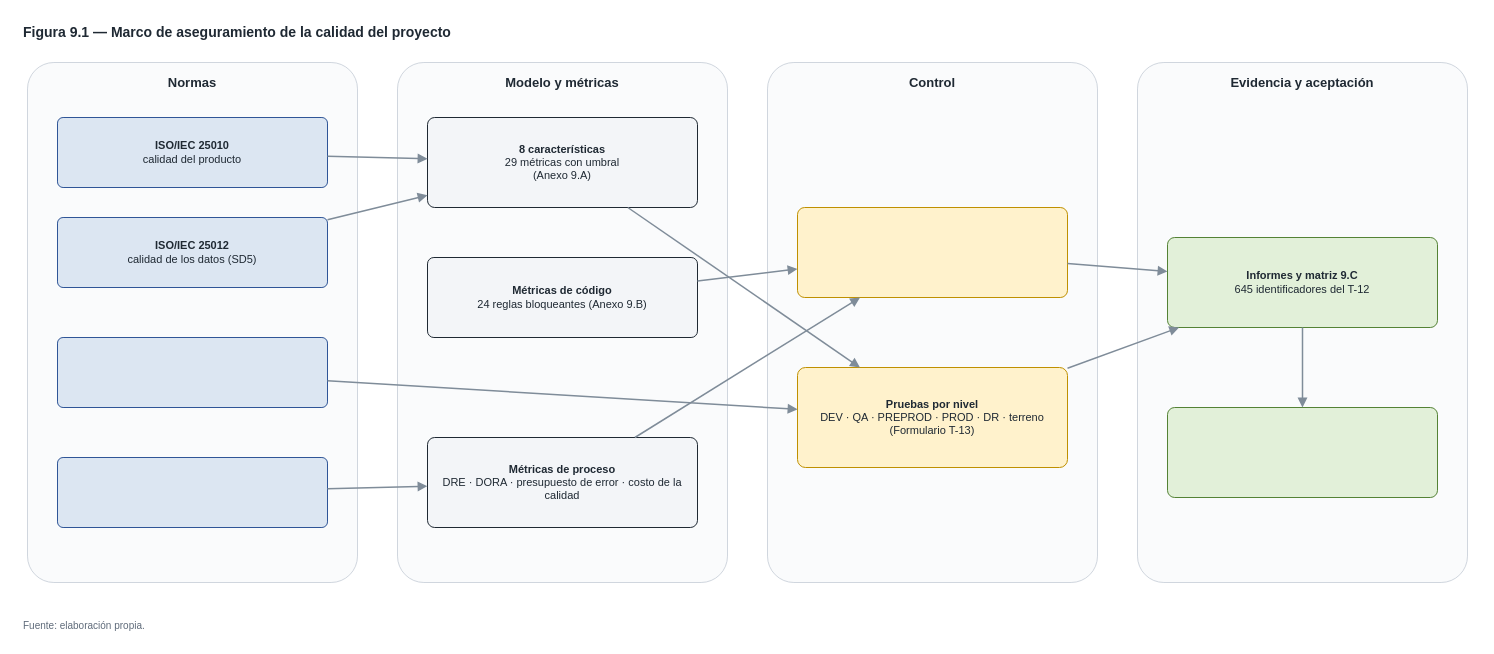
The diagram is 1494 pixels wide and 654 high, and some of its shapes have lost their labels. The shapes that lost their labels are listed below. From the top down, each one's centre as x and y in pixels, then its label:
(932,252): Puertas G0–G6 GitLab CI · AWS CodeBuild
(192,372): ISO/IEC/IEEE 29119 proceso y técnicas de prueba
(1302,452): Protocolo T-17 acta de la Contraparte Técnica por hito
(192,492): PMBOK, cap. 8 planificar, gestionar y controlar
